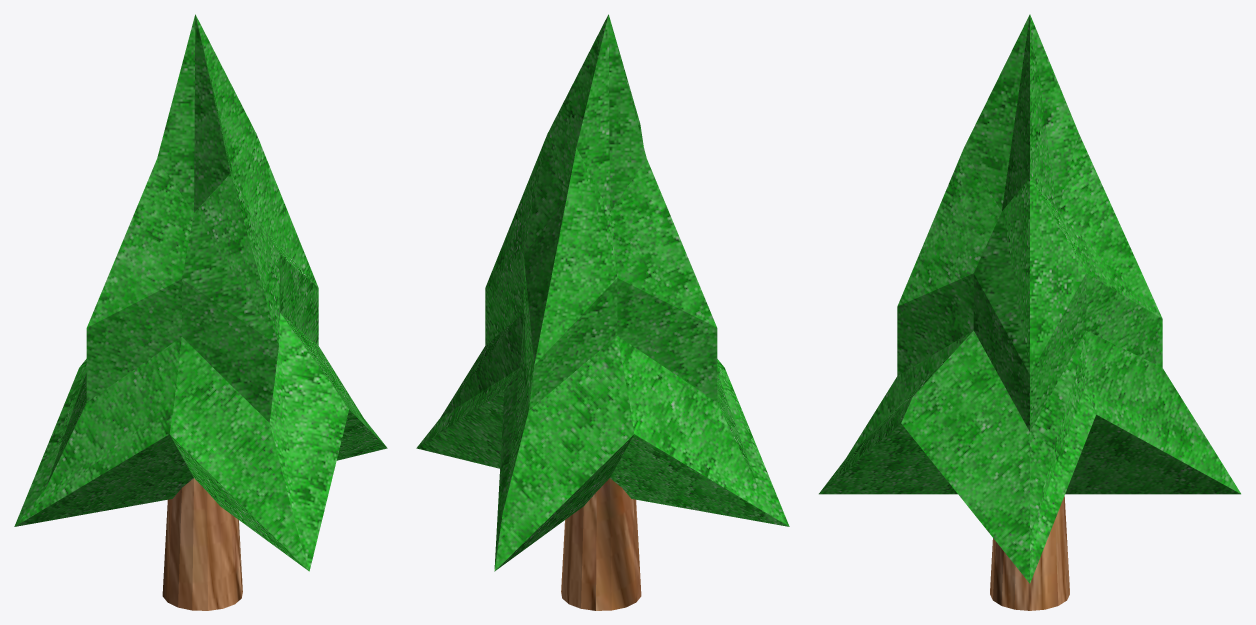
File: Tree.glb
3 views of the same model, side by side, from view 1: azimuth 30°, elevation 25°; view 2: azimuth 150°, elevation 25°; view 3: azimuth 270°, elevation 25° (orthographic).
Visible parts, largest first — view 1: tree; view 2: tree; view 3: tree.
Boxes of the visible parts, x1=… form: tree: x1=14, y1=14, x2=387, y2=610; tree: x1=416, y1=14, x2=789, y2=610; tree: x1=819, y1=14, x2=1240, y2=610.
Size of the model in its own units: 3.21 by 4.78 by 3.18.
Materials: 2 (2 with a texture image).
